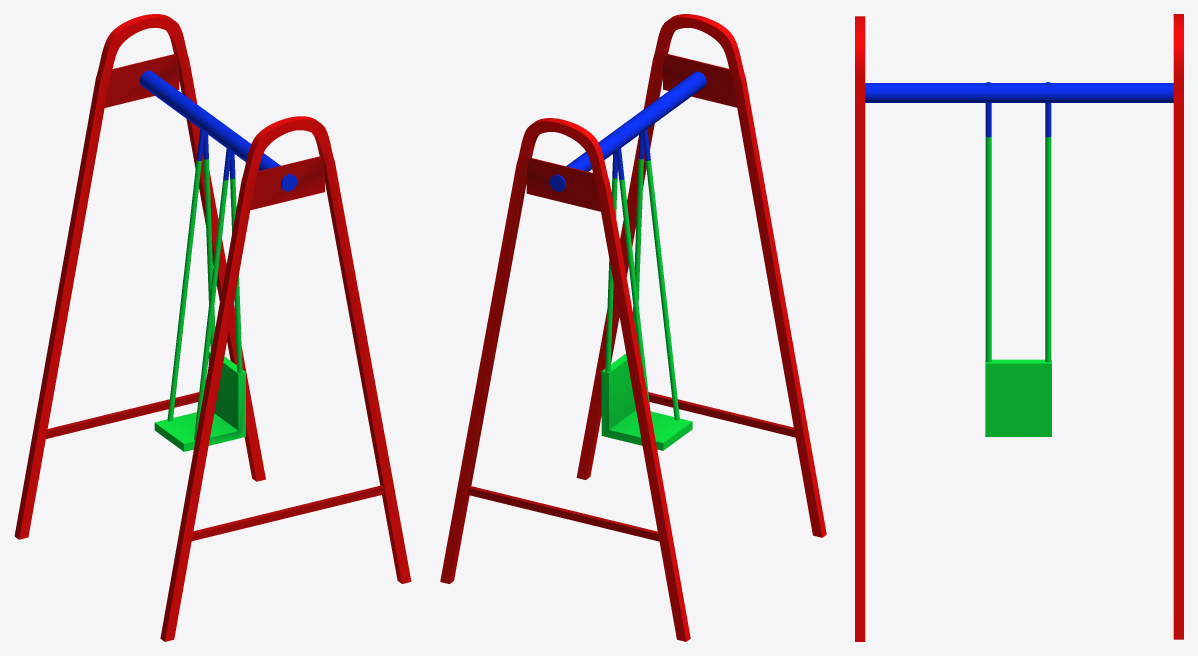
The picture shows the model from 3 angles, left to right: view 1: azimuth 30°, elevation 25°; view 2: azimuth 150°, elevation 25°; view 3: azimuth 270°, elevation 25°; orthographic projection. The views are drawn at different scales.
Parts seen in each view (by area): view 1: hoop, hoop.001, seat, beam, hanger.002, hanger, hanger.003, hanger.001; view 2: hoop.001, hoop, seat, beam, hanger, hanger.002, hanger.001, hanger.003; view 3: hoop, hoop.001, beam, seat, hanger.001, hanger.003.
Boxes of the visible parts, x1=… form: hoop: x1=160, y1=116, x2=411, y2=641; hoop.001: x1=14, y1=14, x2=265, y2=539; seat: x1=154, y1=351, x2=245, y2=451; beam: x1=139, y1=70, x2=297, y2=191; hanger.002: x1=167, y1=160, x2=201, y2=421; hanger: x1=194, y1=179, x2=228, y2=440; hanger.003: x1=203, y1=159, x2=215, y2=352; hanger.001: x1=230, y1=178, x2=242, y2=372; hoop.001: x1=440, y1=118, x2=690, y2=641; hoop: x1=576, y1=14, x2=826, y2=537; seat: x1=601, y1=353, x2=692, y2=450; beam: x1=549, y1=71, x2=706, y2=191; hanger: x1=645, y1=160, x2=679, y2=420; hanger.002: x1=619, y1=179, x2=650, y2=411; hanger.001: x1=633, y1=159, x2=643, y2=328; hanger.003: x1=605, y1=178, x2=617, y2=372; hoop: x1=855, y1=16, x2=865, y2=641; hoop.001: x1=1173, y1=14, x2=1183, y2=639; beam: x1=865, y1=83, x2=1173, y2=102; seat: x1=985, y1=359, x2=1051, y2=436; hanger.001: x1=985, y1=136, x2=991, y2=433; hanger.003: x1=1045, y1=137, x2=1051, y2=433.
Bounding box in the file's own units: 1.34 × 2.5 × 1.35.
